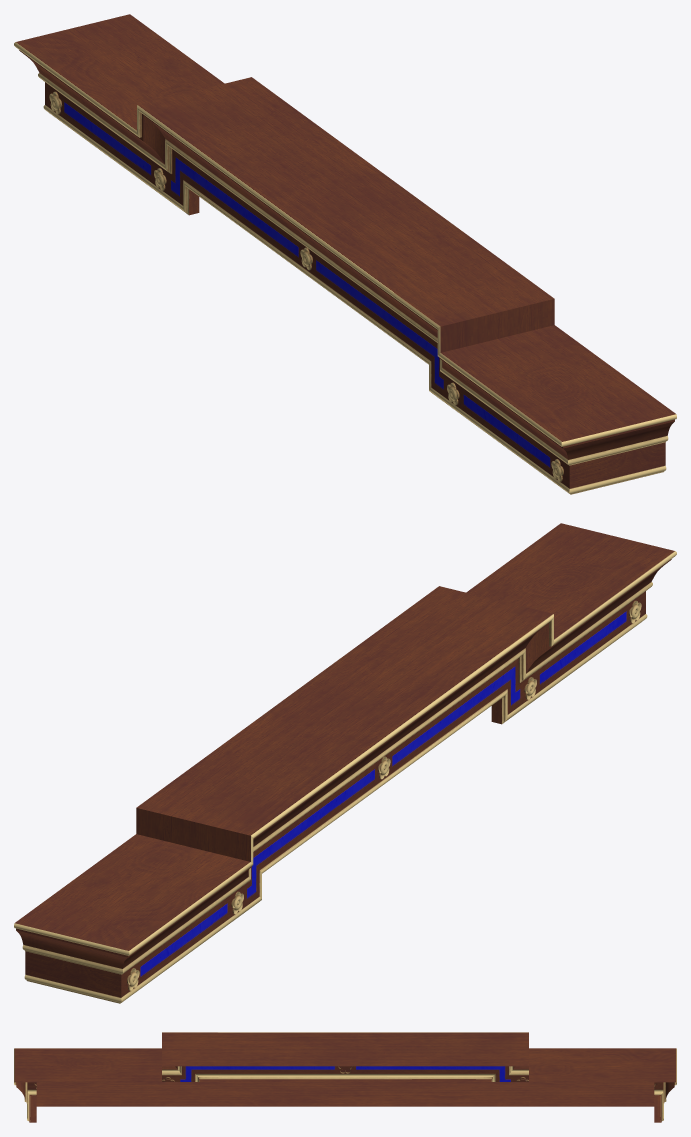
The model's file is SM_WindowFrame05G.fbx.
The picture shows the model from 3 angles, top to bottom: view 1: azimuth 30°, elevation 25°; view 2: azimuth 150°, elevation 25°; view 3: azimuth 270°, elevation 25°; orthographic projection. The views are drawn at different scales.
Parts seen in each view (by area): view 1: SM_WindowFrame05G; view 2: SM_WindowFrame05G; view 3: SM_WindowFrame05G.
Boxes of the visible parts, bbox=[...] form: SM_WindowFrame05G: bbox=[14, 14, 676, 494]; SM_WindowFrame05G: bbox=[14, 523, 676, 1003]; SM_WindowFrame05G: bbox=[14, 1032, 676, 1122].
Size of the model in its own units: 38.52 by 316 by 29.6.
